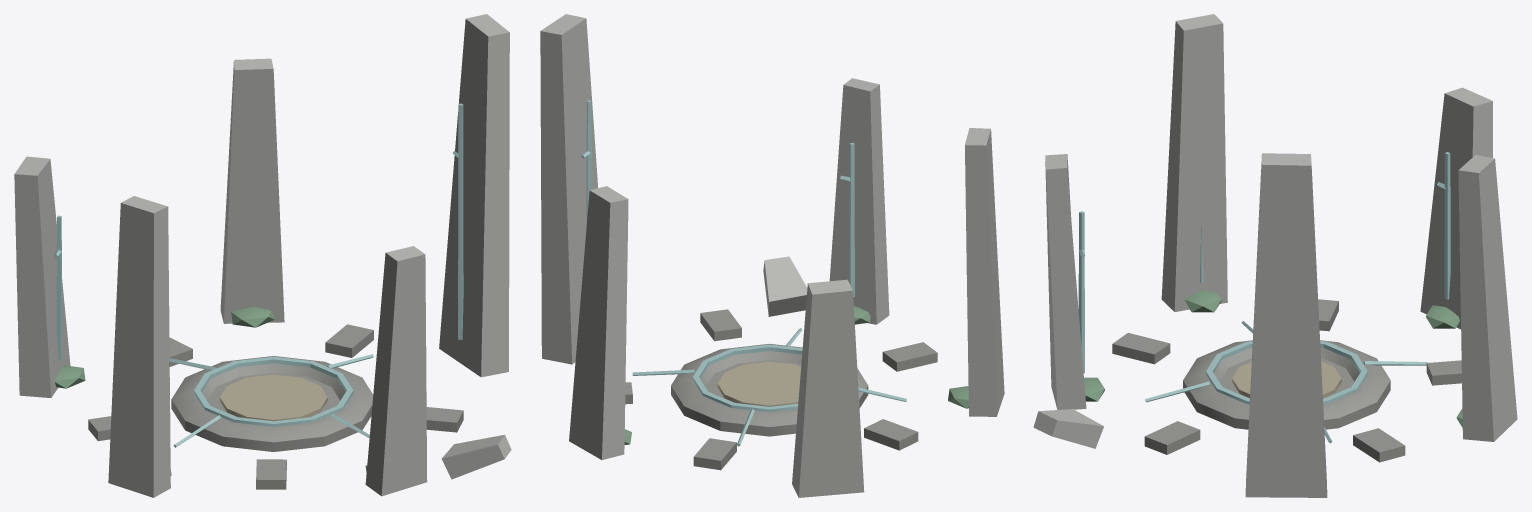
File: wellstone_dormant.glb
The picture shows the model from 3 angles, left to right: view 1: azimuth 30°, elevation 25°; view 2: azimuth 150°, elevation 25°; view 3: azimuth 270°, elevation 25°; orthographic projection. The views are drawn at different scales.
Visible parts, largest first — view 1: wellstone_dormant; view 2: wellstone_dormant; view 3: wellstone_dormant.
Part boxes in pixels (bbox=[...]): wellstone_dormant: bbox=[14, 14, 511, 497]; wellstone_dormant: bbox=[540, 14, 1004, 497]; wellstone_dormant: bbox=[1033, 14, 1517, 497].
Bounding box in the file's own units: 4.57 × 3.52 × 4.43.
